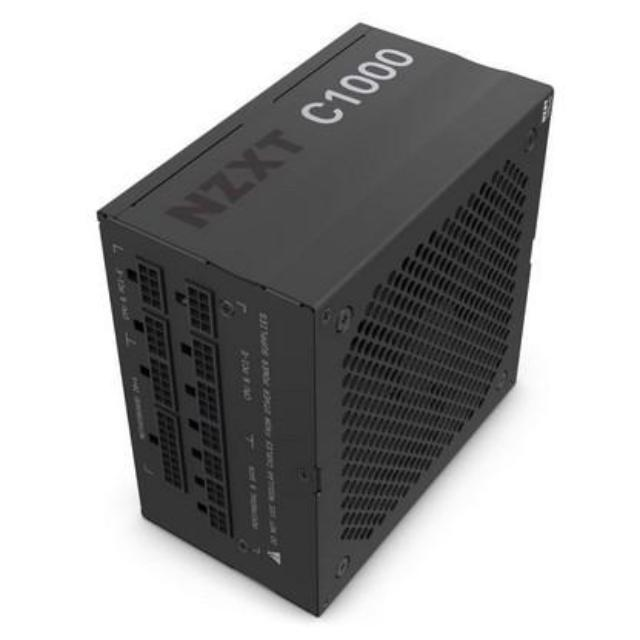PSU: (97, 12, 563, 623)
